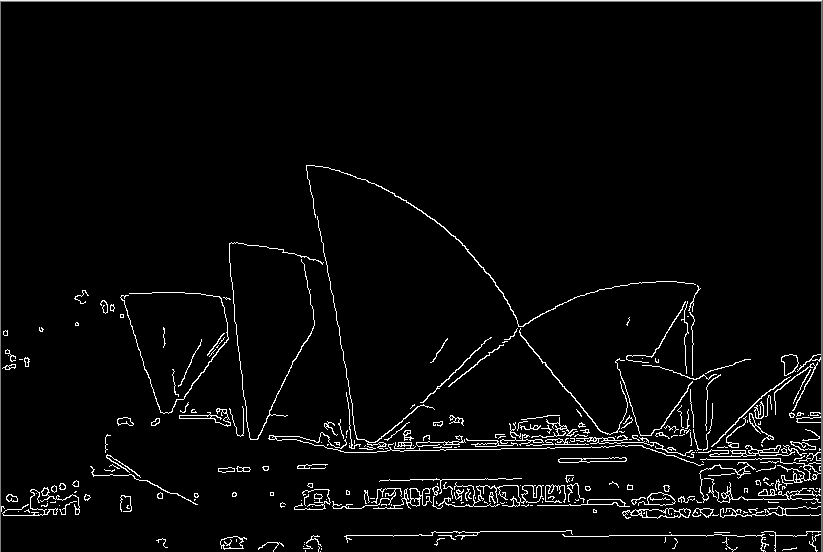opera house: (104, 169, 811, 460)
